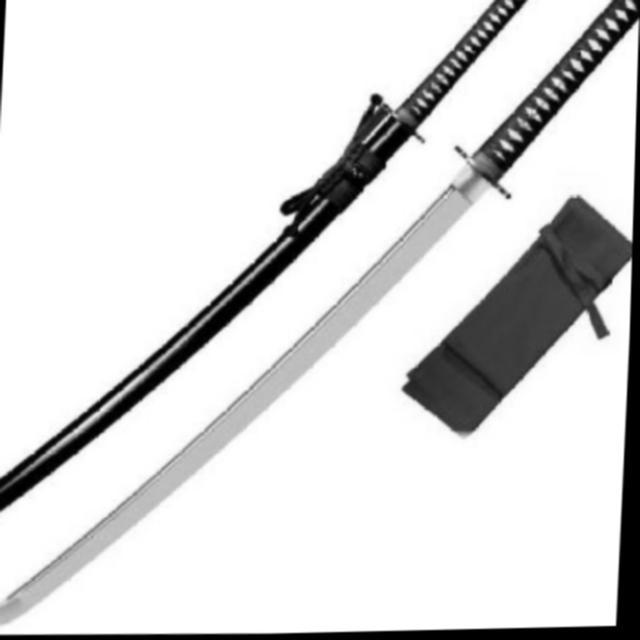weapon: (0, 0, 640, 639), (0, 0, 534, 527)
